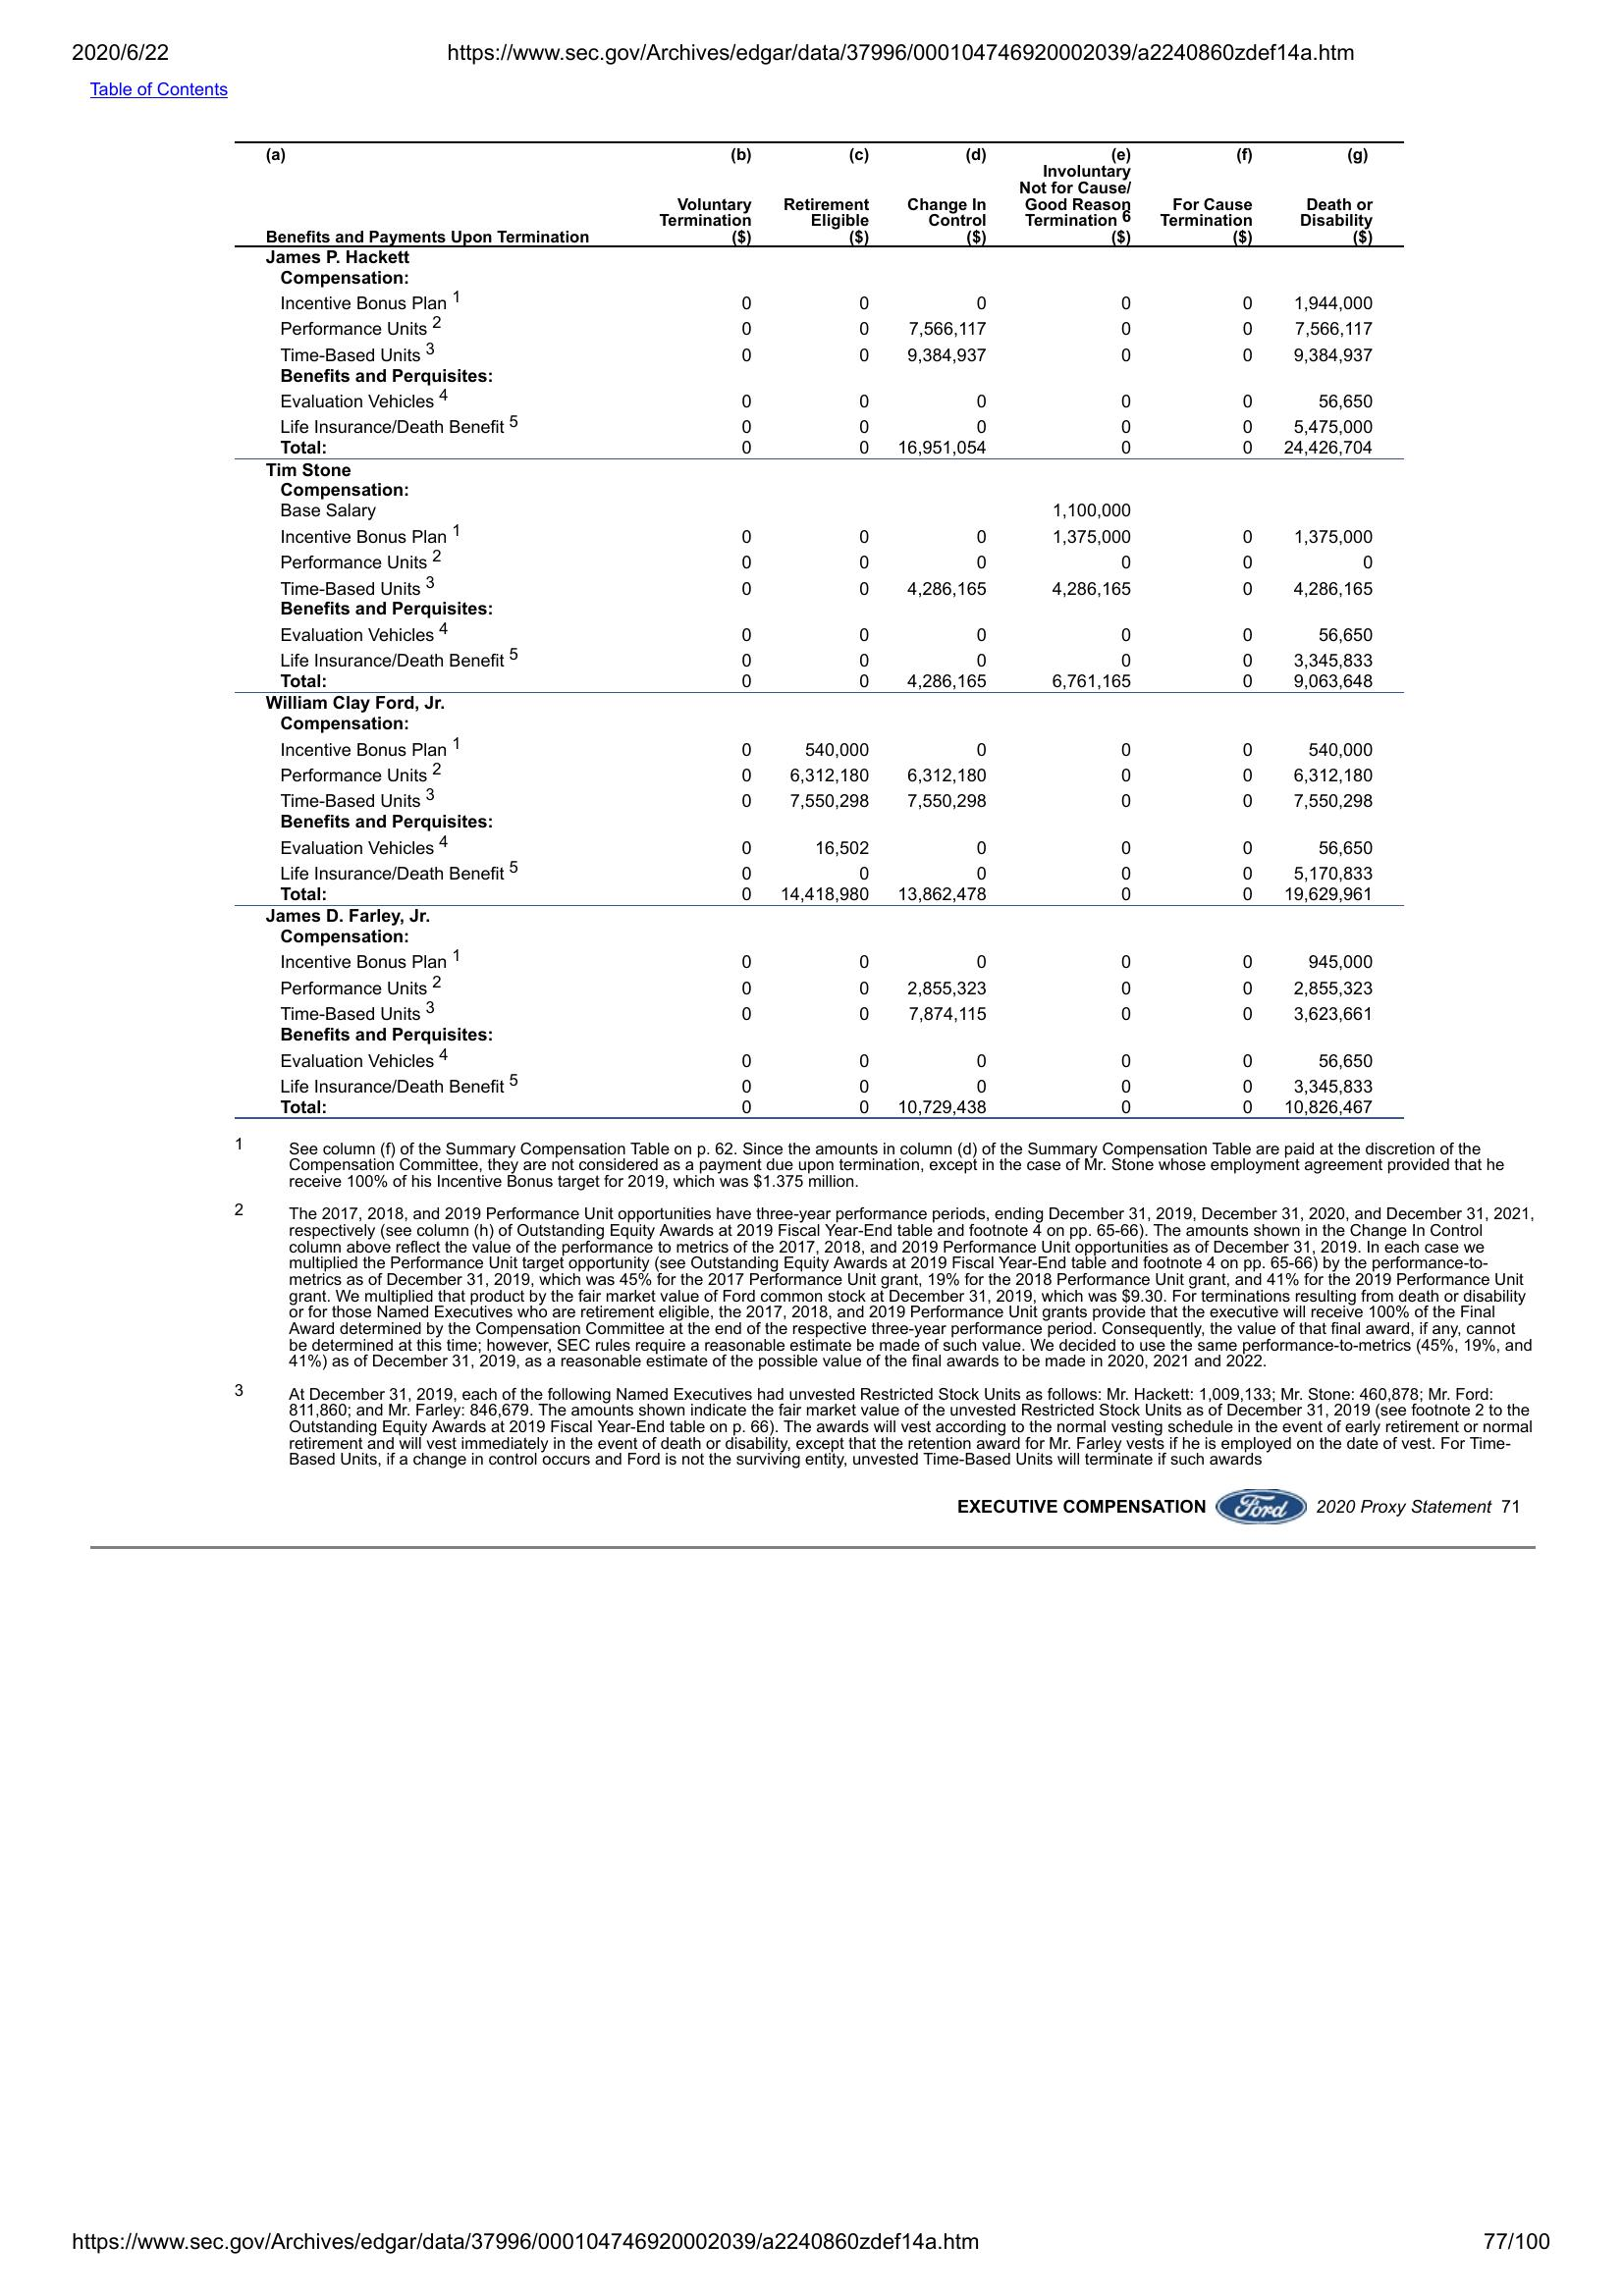table: (230, 135, 1410, 1125)
